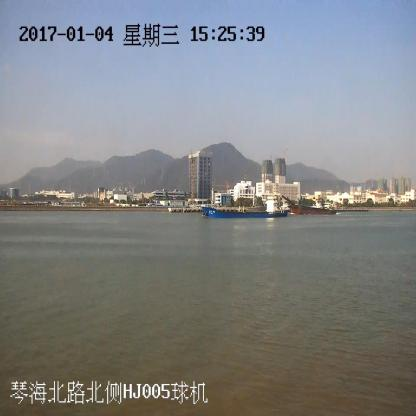Bulk Carrier: (201, 197, 289, 217), (283, 196, 338, 215)
